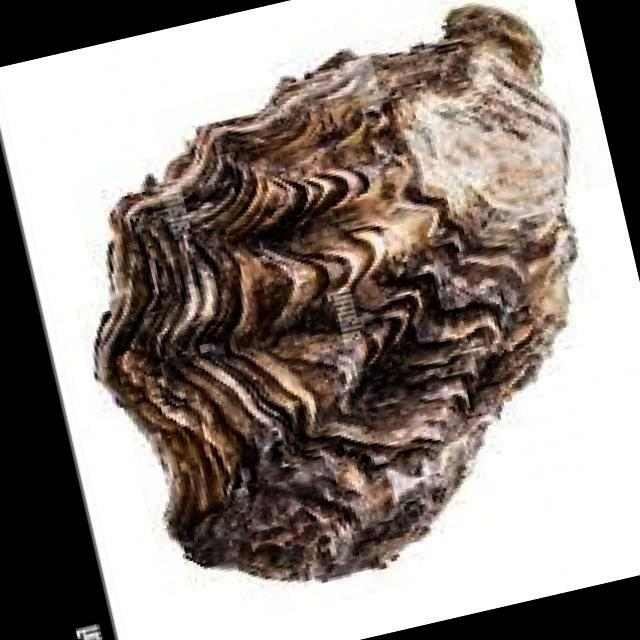Oyster-Closed: (95, 5, 576, 580)
